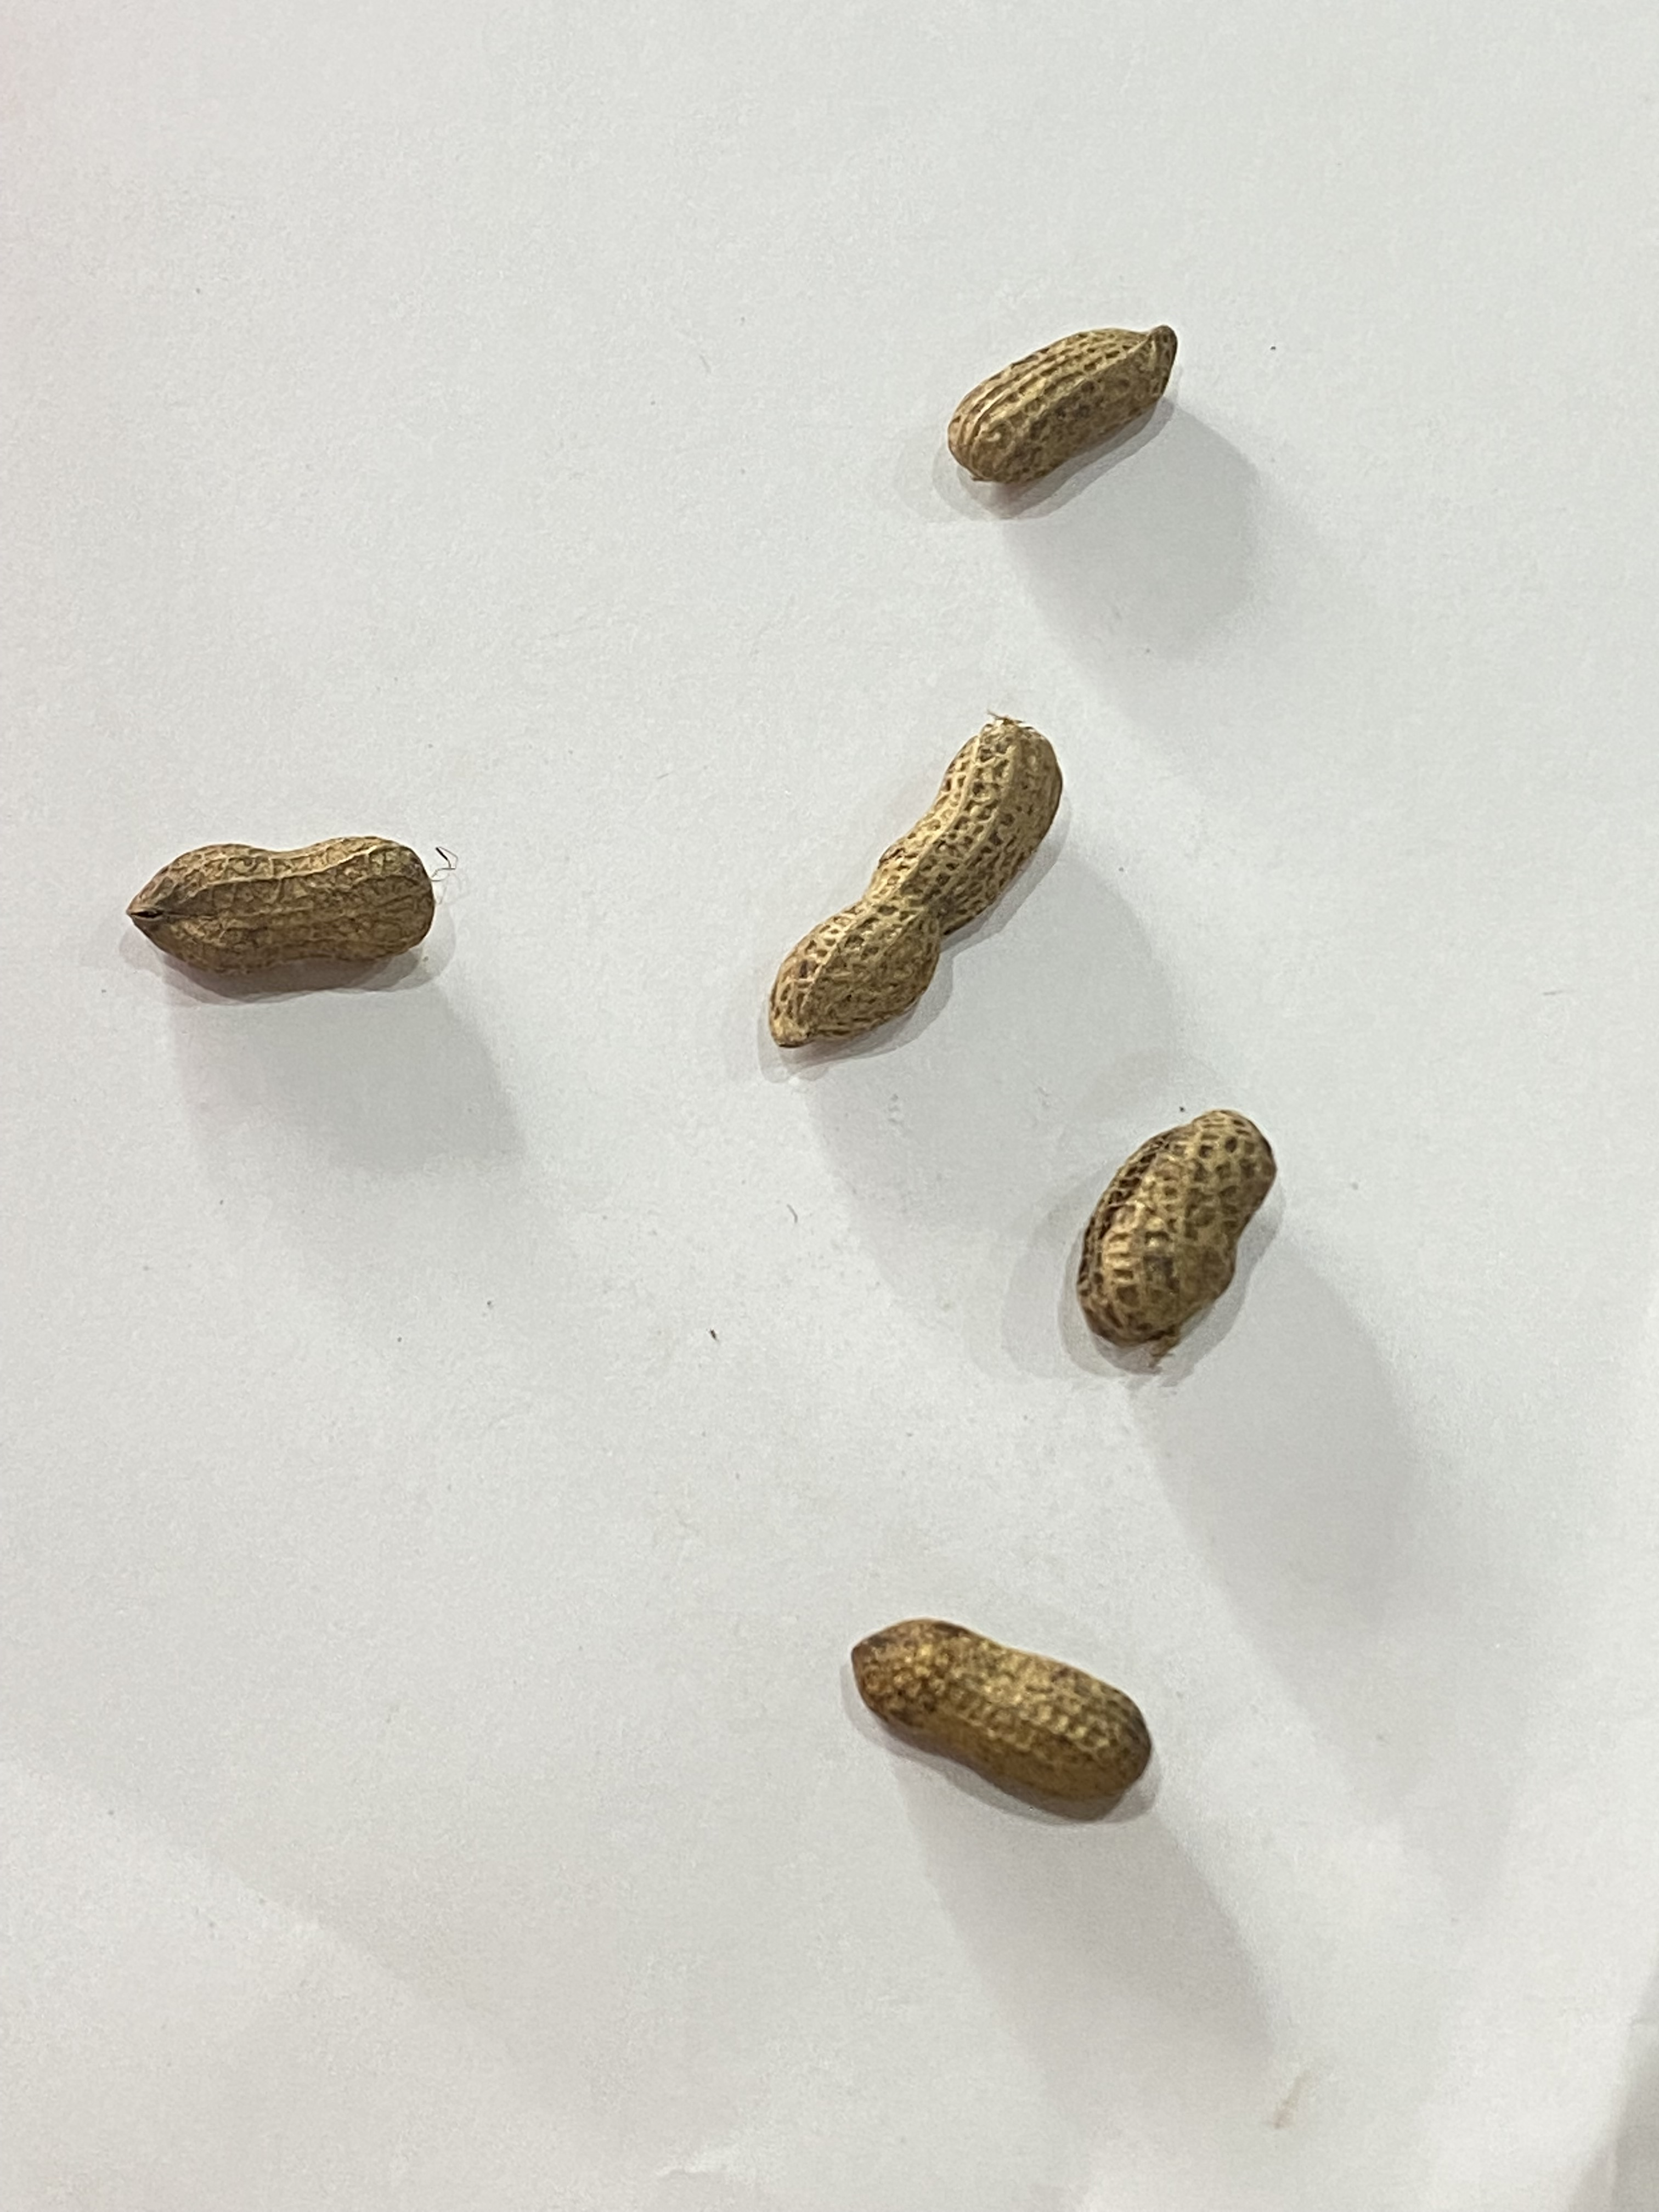kacang2: (849, 1602, 1164, 1825), (1072, 1085, 1279, 1383), (929, 296, 1199, 502), (132, 834, 467, 982)
kacang3: (749, 705, 1094, 1071)
